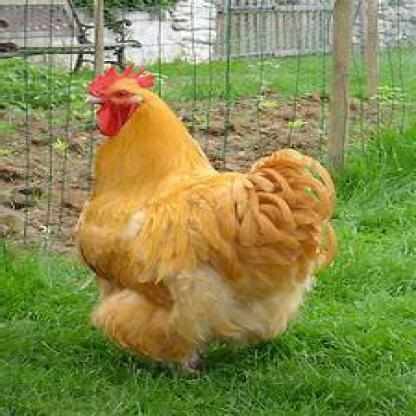chicken: (56, 68, 342, 370)
